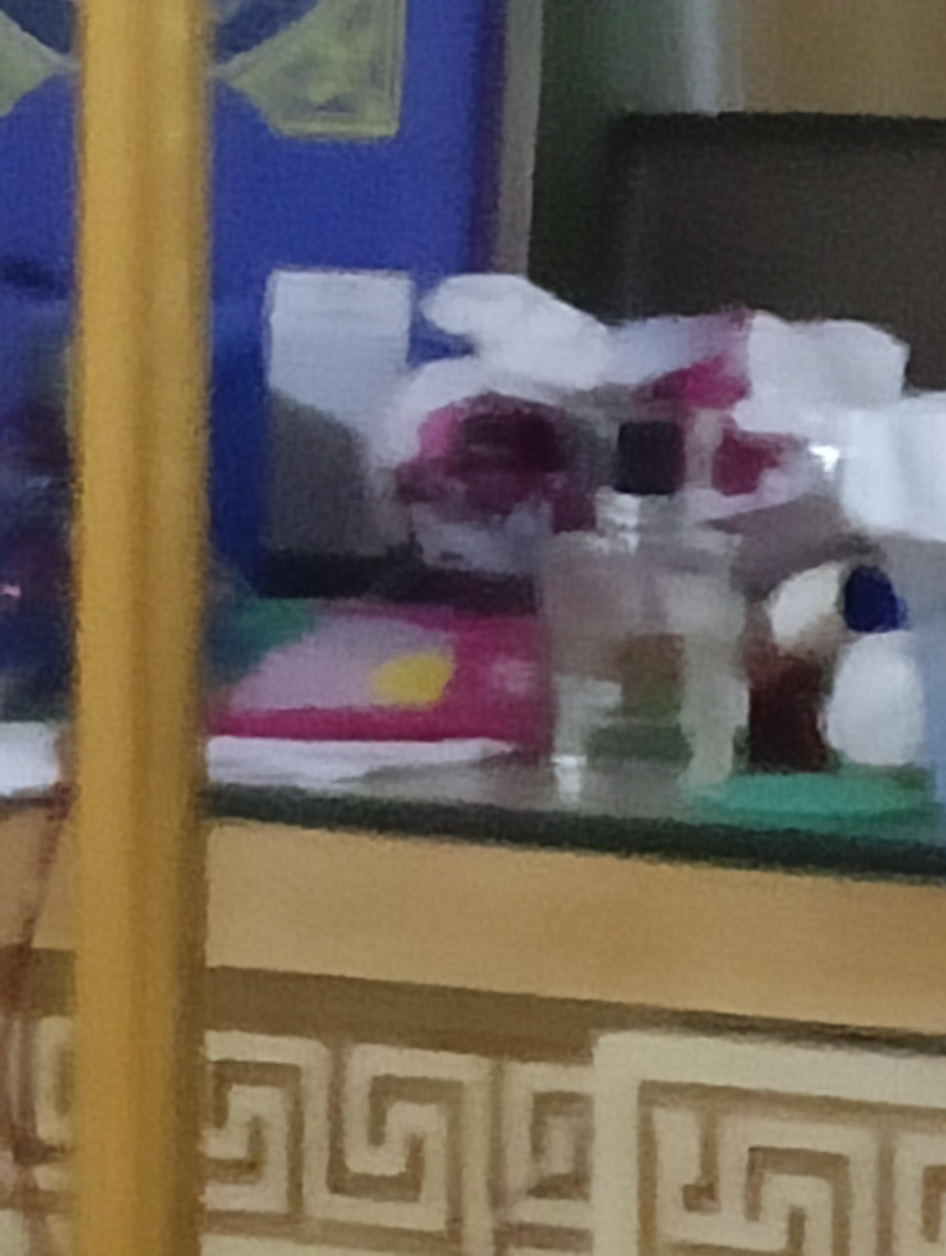Bottle: (540, 403, 745, 787)
